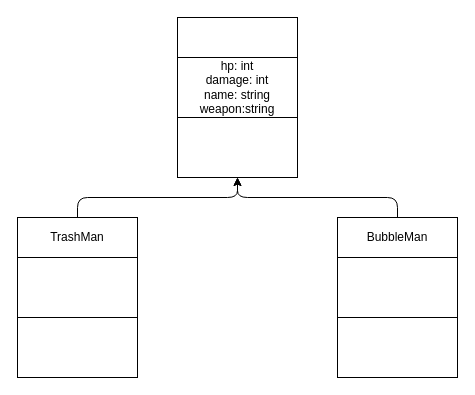
Image size: 475x395. Some labels were removed from this diagram. The shapes that lost their labels are listed below. From the top down, each one's centre as x and y in pixels, then its label:
At (x=237, y=37): "Boss".
At (x=237, y=147): "attac(): void move(): void".
